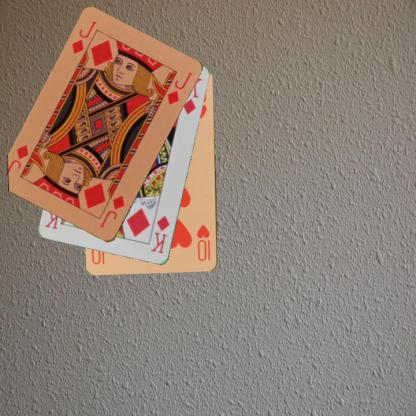10h: (195, 222, 212, 263)
Jd: (97, 193, 127, 230), (69, 18, 98, 56)
Kd: (149, 214, 171, 256)
